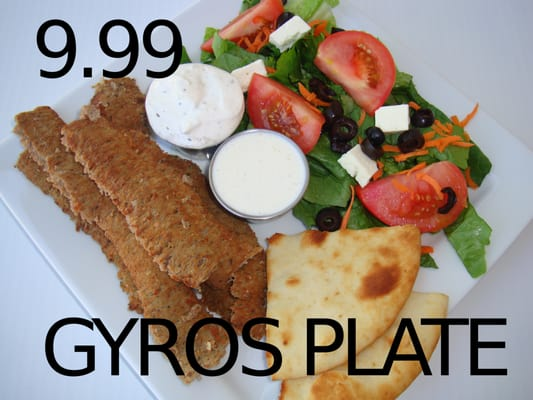soup: (256, 225, 423, 379)
